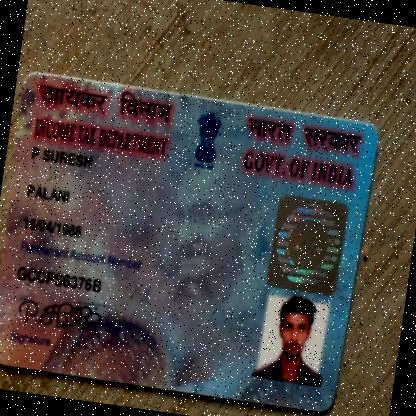pan_card: (0, 54, 392, 415)
